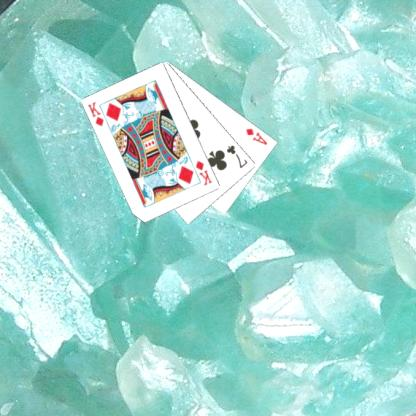7C: (224, 142, 249, 170)
AD: (243, 125, 269, 147)
KD: (192, 158, 214, 187), (84, 98, 106, 127)
